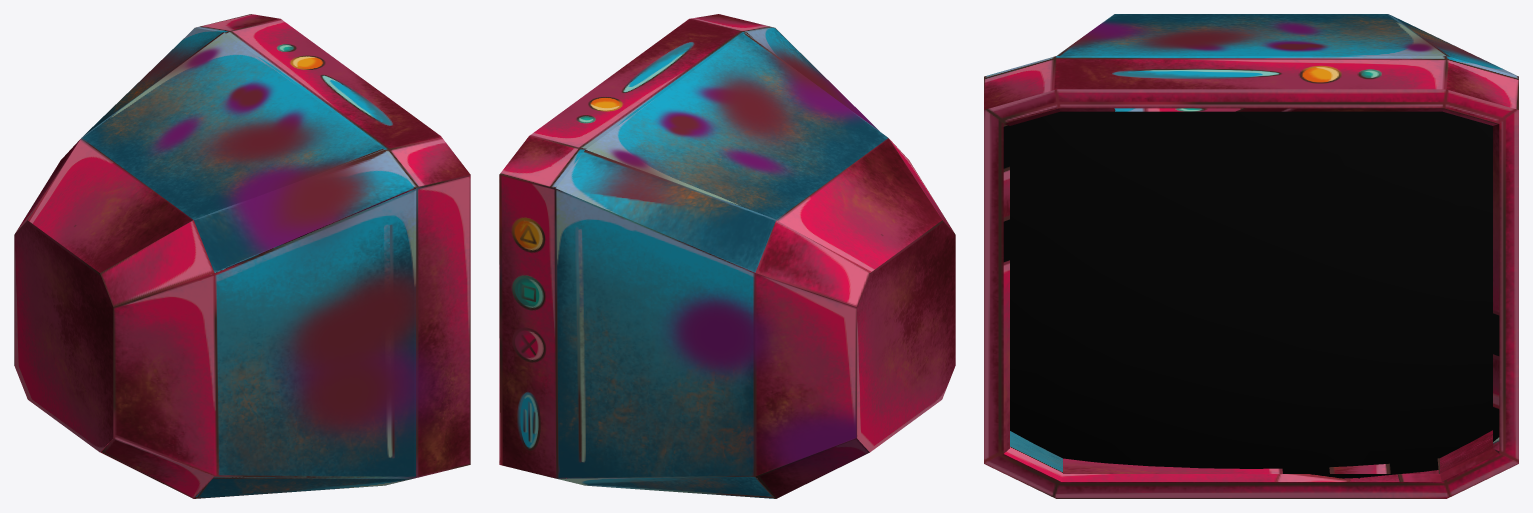
The model's file is MONITOR.fbx.
The picture shows the model from 3 angles, left to right: view 1: azimuth 30°, elevation 25°; view 2: azimuth 150°, elevation 25°; view 3: azimuth 270°, elevation 25°; orthographic projection. The views are drawn at different scales.
Parts seen in each view (by area): view 1: Cube; view 2: Cube; view 3: Sphere.001, Cube.
Part boxes in pixels (left/top/right/bottom): Cube: left=14, top=14, right=470, bottom=498; Cube: left=499, top=14, right=955, bottom=498; Sphere.001: left=1003, top=111, right=1499, bottom=478; Cube: left=984, top=14, right=1518, bottom=498.
Size of the model in its own units: 230 by 240 by 284.
